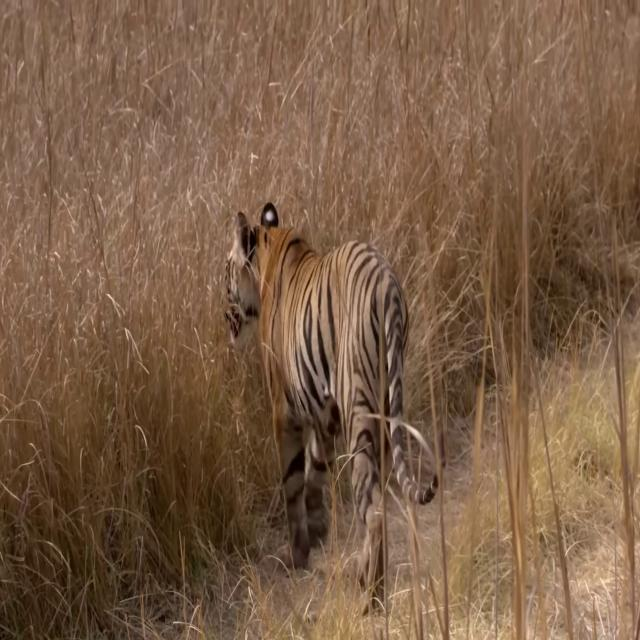tiger: (224, 201, 439, 618)
